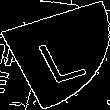L_N: (24, 26, 86, 84)
